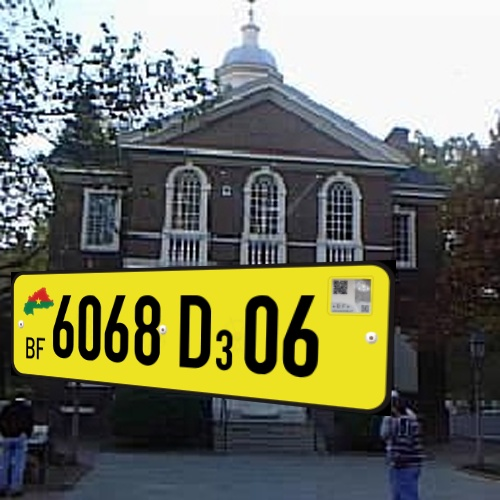plate: (6, 244, 406, 427)
